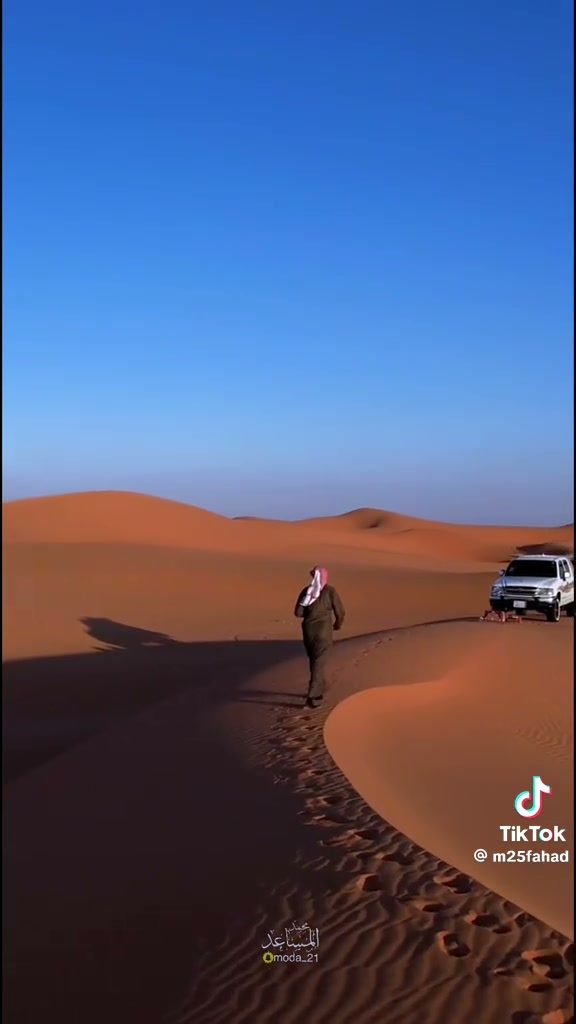human_foot_print: (273, 711, 569, 1023), (399, 865, 573, 997), (397, 871, 573, 997), (398, 882, 512, 972), (294, 566, 344, 707), (492, 944, 572, 993), (348, 863, 405, 916), (326, 816, 385, 859), (522, 950, 572, 979), (352, 634, 392, 667), (399, 894, 456, 916), (491, 946, 530, 977), (465, 911, 511, 934), (510, 1008, 574, 1023), (299, 808, 349, 827), (436, 931, 470, 958), (278, 725, 314, 749), (434, 872, 473, 893), (321, 828, 368, 845), (285, 736, 317, 756), (517, 975, 552, 993), (305, 794, 341, 811), (352, 849, 383, 868), (353, 873, 383, 892), (384, 849, 412, 867), (301, 795, 327, 813), (297, 768, 324, 783), (291, 712, 315, 728), (512, 911, 534, 928), (563, 942, 574, 973), (284, 735, 306, 750), (357, 828, 380, 842), (322, 792, 344, 806)
